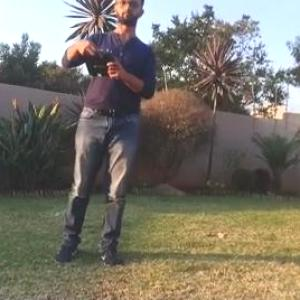follow: (48, 0, 160, 272)
